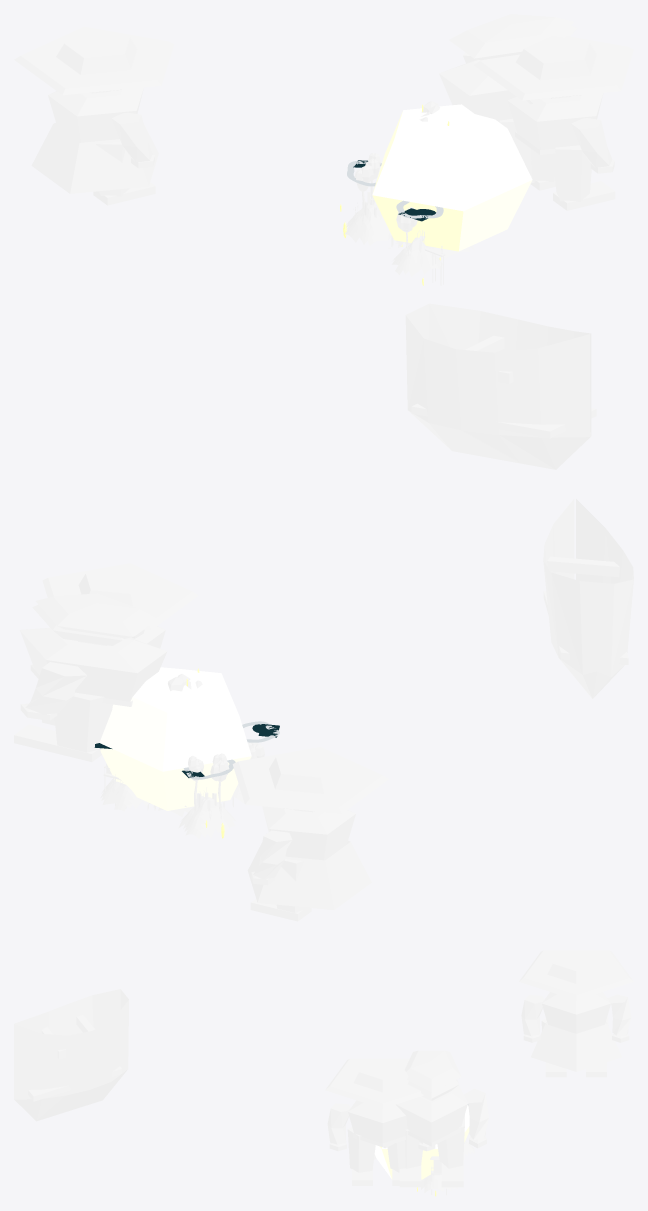
The model's file is ile-lucioles-v5-leger.glb.
The picture shows the model from 3 angles, top to bottom: view 1: azimuth 30°, elevation 25°; view 2: azimuth 150°, elevation 25°; view 3: azimuth 270°, elevation 25°; orthographic projection. The views are drawn at different scales.
Visible parts, largest first — view 1: ile_anime0.006, ile_anime1.006, ile_lumieres.006, ile_anime3.006, ile_anime2.006, ile_corps.006, ile_libre0.004; view 2: ile_anime1.006, ile_anime2.006, ile_lumieres.006, ile_anime0.006, ile_anime3.006, ile_corps.006, ile_libre0.004; view 3: ile_anime0.006, ile_anime1.006, ile_anime3.006, ile_anime2.006, ile_lumieres.006, ile_corps.006.
Boxes of the visible parts, left/top/right/bottom form: ile_anime0.006: left=405, top=303, right=596, bottom=469; ile_anime1.006: left=14, top=26, right=174, bottom=205; ile_lumieres.006: left=340, top=104, right=532, bottom=285; ile_anime3.006: left=474, top=36, right=633, bottom=210; ile_anime2.006: left=439, top=14, right=577, bottom=183; ile_corps.006: left=344, top=101, right=474, bottom=285; ile_libre0.004: left=347, top=160, right=443, bottom=221; ile_anime1.006: left=232, top=747, right=388, bottom=921; ile_anime2.006: left=14, top=593, right=167, bottom=761; ile_lumieres.006: left=99, top=667, right=251, bottom=838; ile_anime0.006: left=543, top=499, right=633, bottom=698; ile_anime3.006: left=42, top=563, right=198, bottom=648; ile_corps.006: left=100, top=674, right=264, bottom=838; ile_libre0.004: left=94, top=721, right=279, bottom=779; ile_anime0.006: left=14, top=989, right=128, bottom=1121; ile_anime1.006: left=519, top=950, right=633, bottom=1077; ile_anime3.006: left=325, top=1058, right=435, bottom=1185; ile_anime2.006: left=383, top=1050, right=488, bottom=1187; ile_lumieres.006: left=374, top=1105, right=469, bottom=1196; ile_corps.006: left=374, top=1140, right=474, bottom=1195.
Size of the model in its own units: 6.81 by 2.79 by 10.77.
